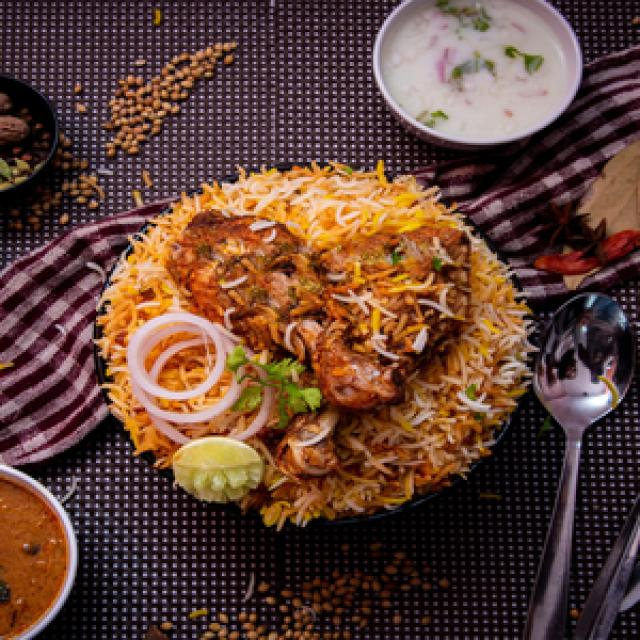chicken biriyani: (86, 150, 540, 544)
